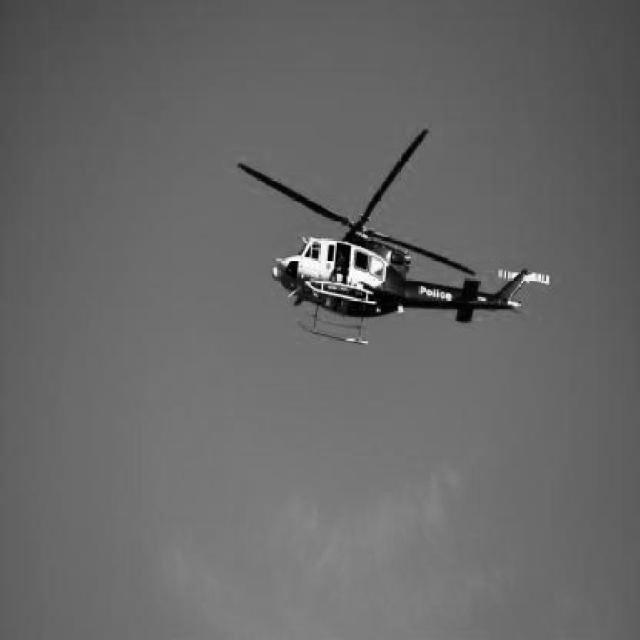helikopter: (228, 118, 556, 376)
